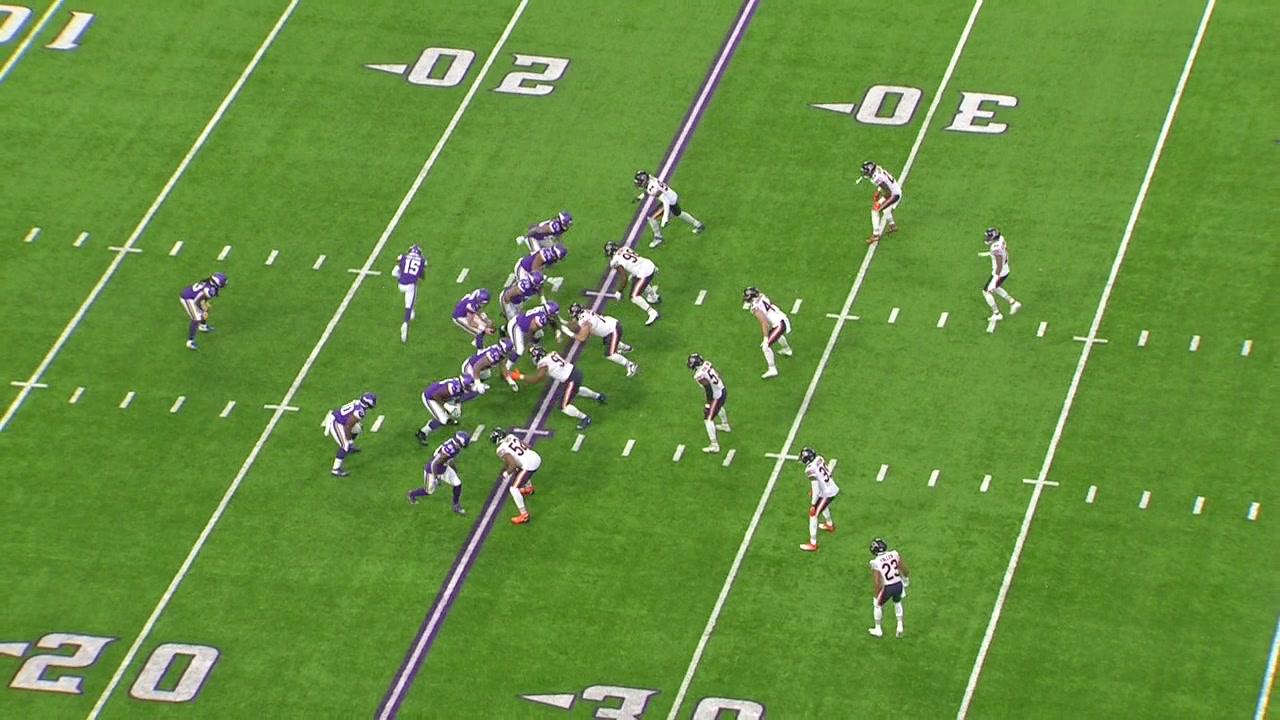defense: (509, 342, 608, 432), (557, 300, 640, 380), (629, 167, 706, 250), (486, 426, 544, 526), (862, 533, 914, 642), (602, 238, 664, 328), (795, 443, 843, 554), (683, 350, 733, 456), (741, 282, 795, 380), (974, 222, 1023, 324), (854, 158, 906, 248)
oline: (453, 334, 520, 410), (414, 371, 476, 448), (505, 297, 564, 372), (497, 270, 550, 341), (509, 242, 573, 283)
qb: (449, 284, 499, 356)
skill: (404, 430, 475, 517), (320, 389, 379, 481), (175, 268, 232, 353), (386, 242, 432, 346), (514, 209, 579, 257)
